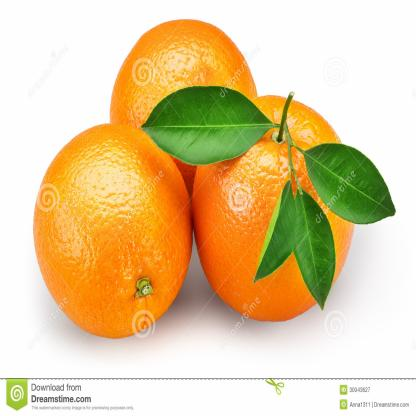orange: (179, 90, 366, 322), (28, 120, 194, 340), (103, 15, 251, 231)
